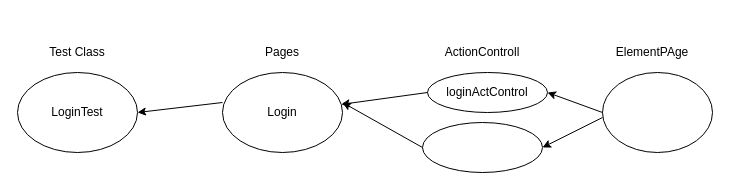
Image size: 730x190. Some labels were removed from this diagram. Each missing label, with the centre of its shape:
"LoginElement" goes at point 657,112.
"loginVerifyControl" goes at point 482,147.
